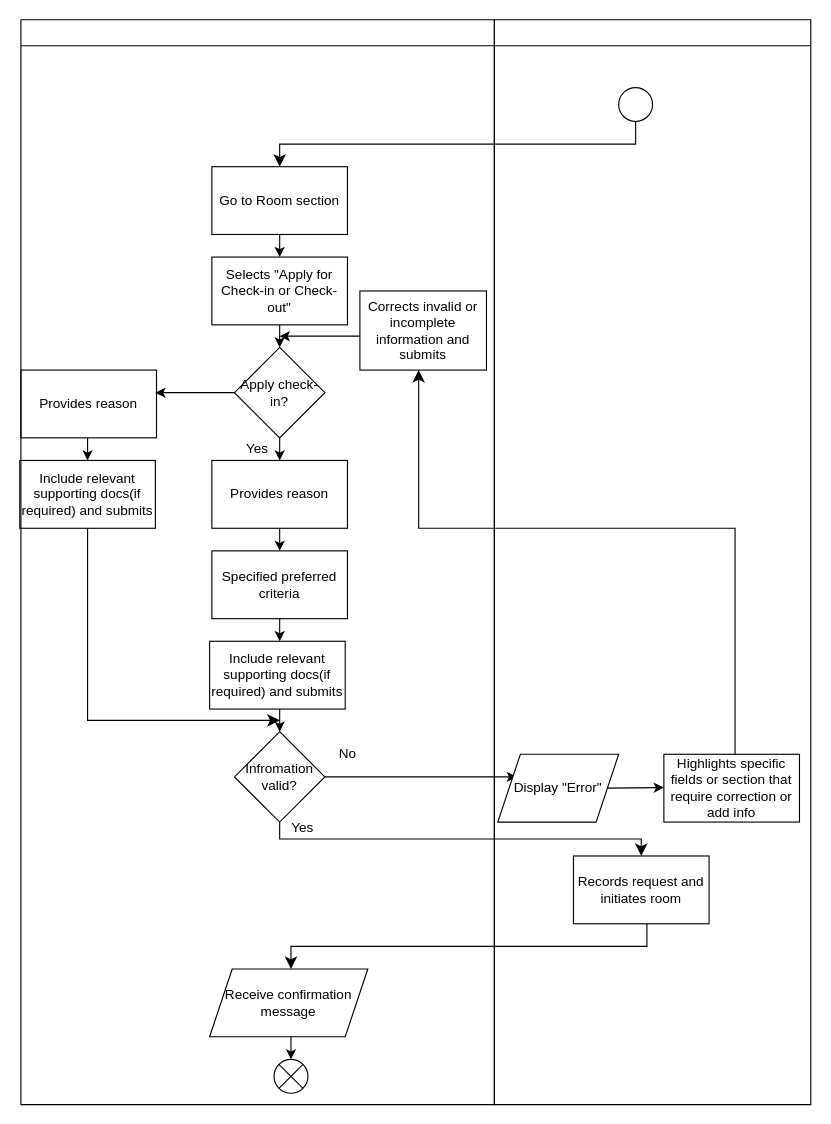
Some shapes in this 831 by 1124 pixel diagram are drawn without their labels. The centre of each missing label's shape, as x and y in pixels:
"Student" belongs at point (257, 562).
"System" belongs at point (652, 562).
